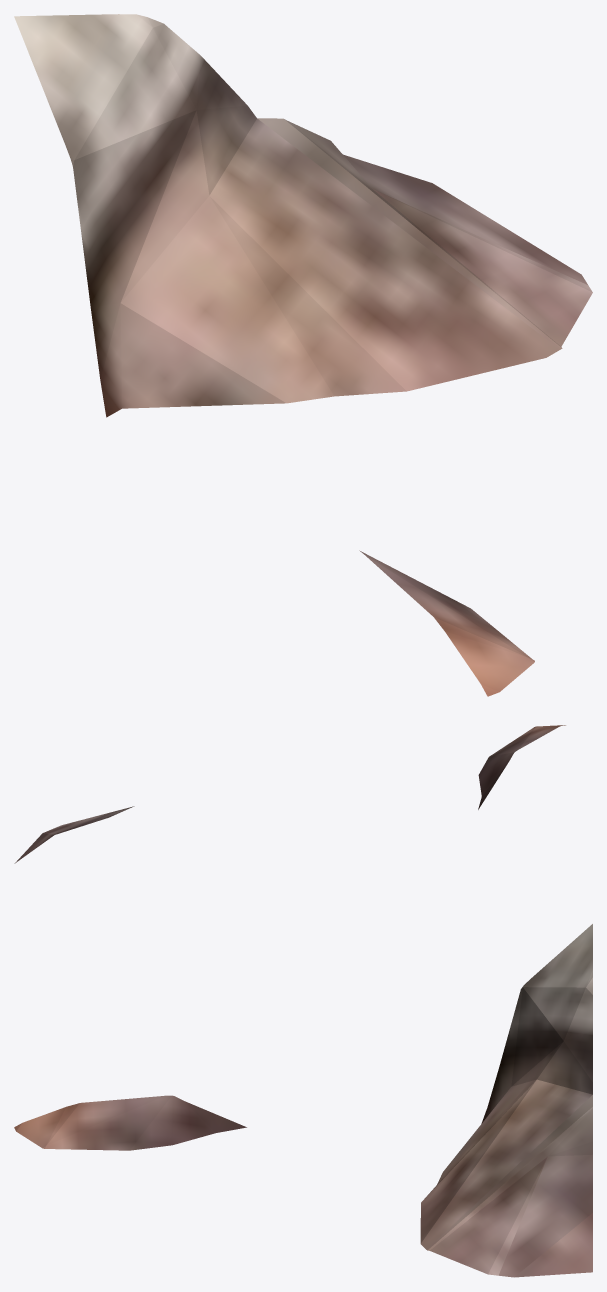
The picture shows the model from 3 angles, top to bottom: view 1: azimuth 30°, elevation 25°; view 2: azimuth 150°, elevation 25°; view 3: azimuth 270°, elevation 25°; orthographic projection. The views are drawn at different scales.
Size of the model in its own units: 0.1393 by 0.0883 by 0.2272.
Materials: 1 (1 with a texture image).
